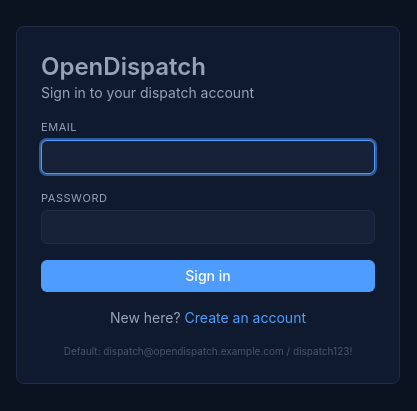
Test: Login › shows a validation error for an invalid email
The width and height of the screenshot is (417, 411).
Type "not-an-email" into the field labelled "Email". click: (208, 156)
box: [41,140,375,174]
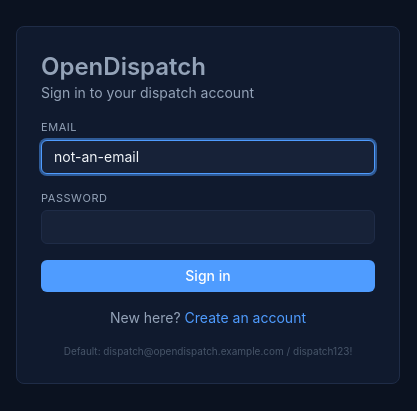
Type "secret" into the password field labelled "Password". click: (208, 227)
box: [41,210,375,244]
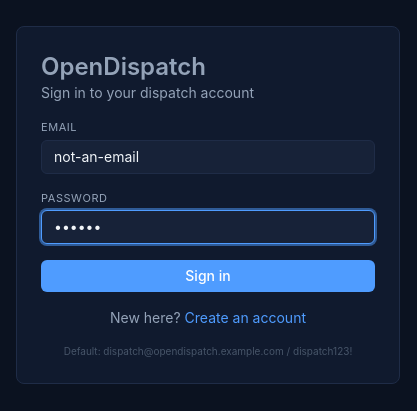
Submit the form "Sign in"
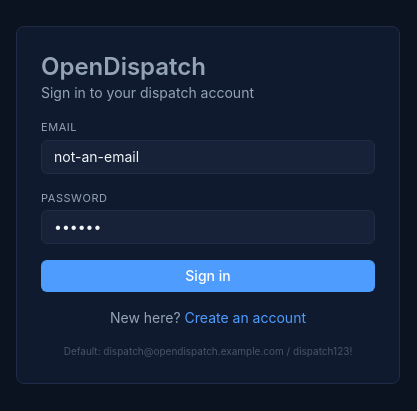
Type "secret" into the password field labelled "Password". click: (208, 227)
box: [41,210,375,244]
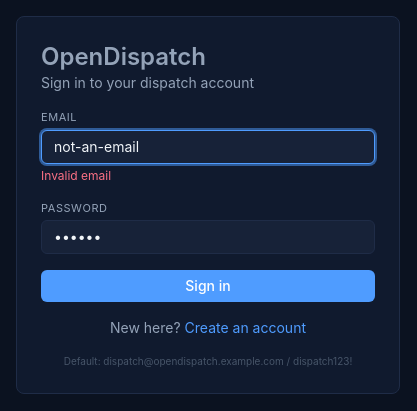
Check: the text "Invalid email" is shown, box [41,168,111,182]
